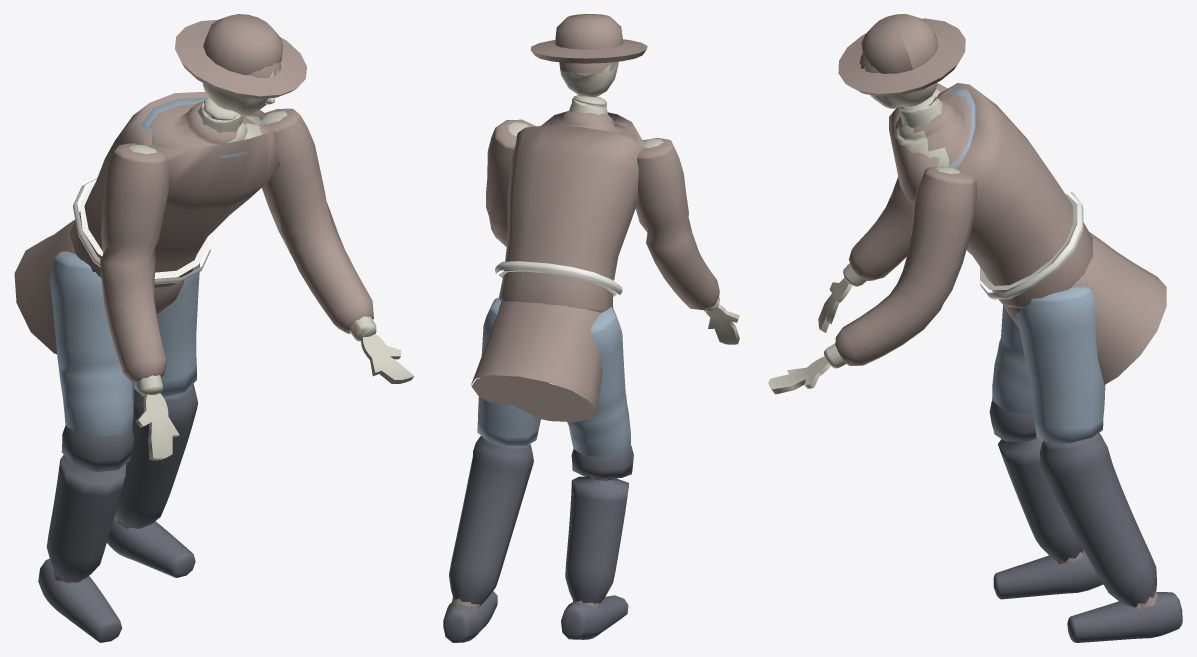
The model's file is undead-horde-and-infected-variants-walker-field-farmer-8a78eb8d__11985.glb.
3 views of the same model, side by side, from view 1: azimuth 30°, elevation 25°; view 2: azimuth 150°, elevation 25°; view 3: azimuth 270°, elevation 25° (orthographic). The views are drawn at different scales.
Parts seen in each view (by area): view 1: walker-field-farmer; view 2: walker-field-farmer; view 3: walker-field-farmer.
Boxes of the visible parts, box(x1,y1,x2,y2) form: walker-field-farmer: box(14, 14, 414, 642); walker-field-farmer: box(443, 14, 739, 642); walker-field-farmer: box(768, 14, 1182, 642).
Size of the model in its own units: 0.6764 by 1.64 by 0.9994.
